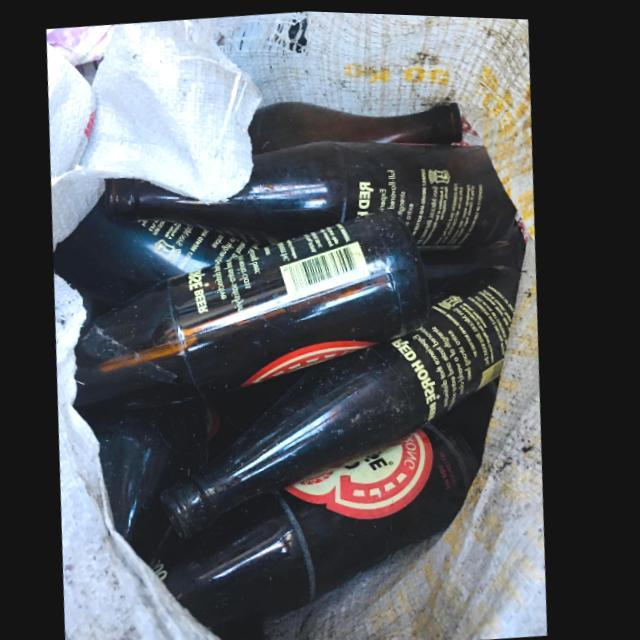glass: (168, 262, 521, 533), (76, 207, 435, 409), (157, 415, 489, 619), (107, 137, 521, 253)
